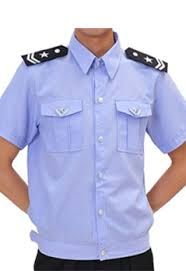uniform: (14, 39, 161, 254)
